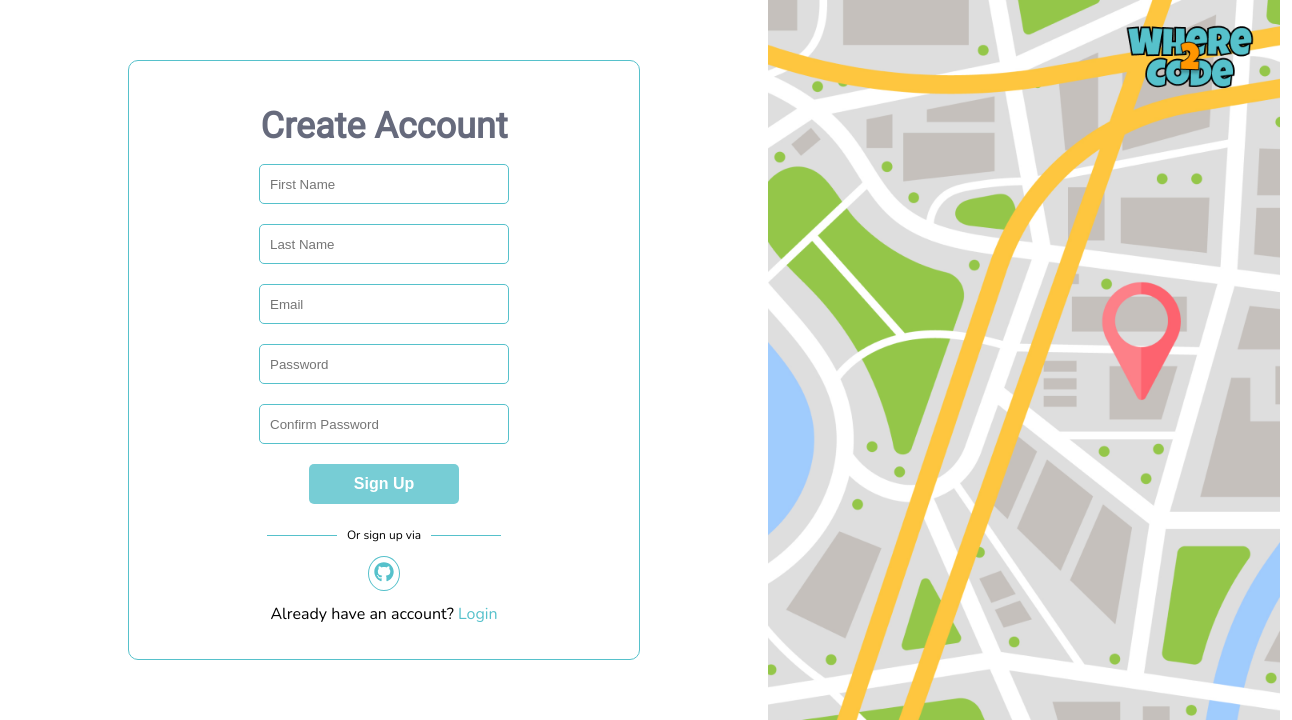
Scenario: Registartion tests › display an error message if validation don't pass › test confirm password validation
In the password field with placeholder "Password": (384, 364) [259,344,509,384], type "giacomo1"
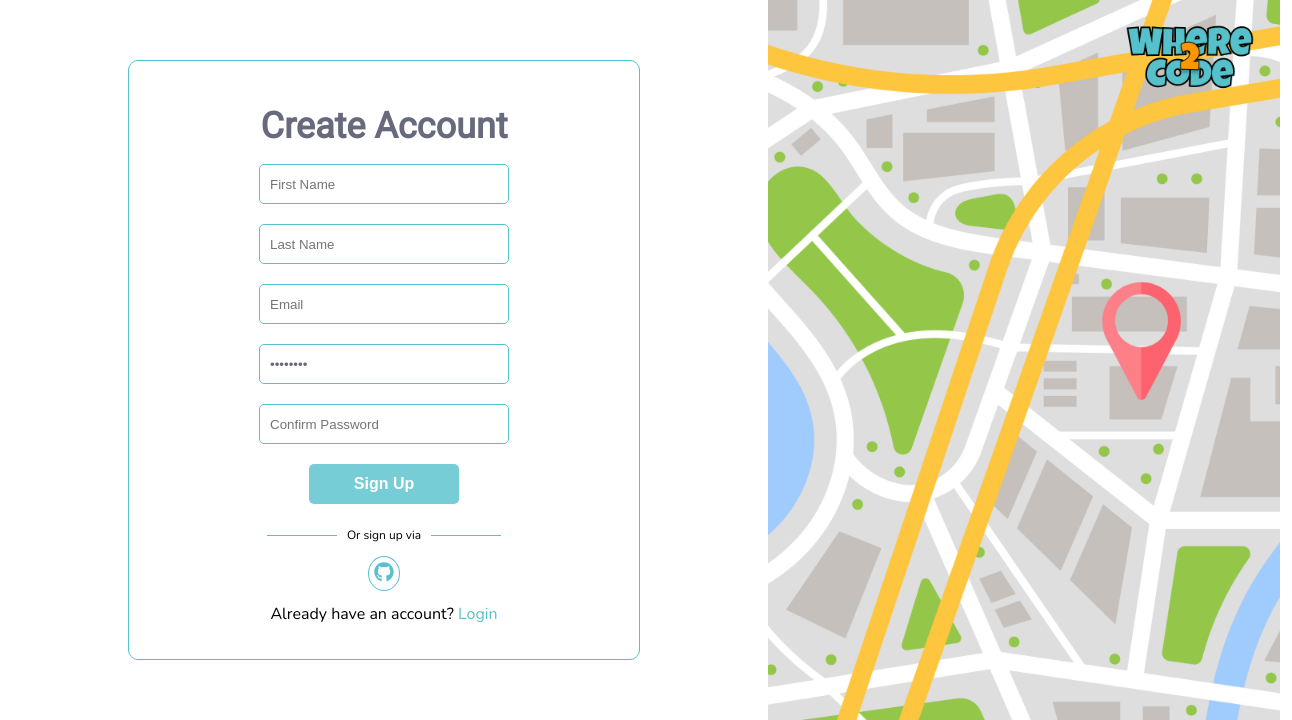
In the password field with placeholder "Confirm Password": (384, 424) [259,404,509,444], type "giacomo2"
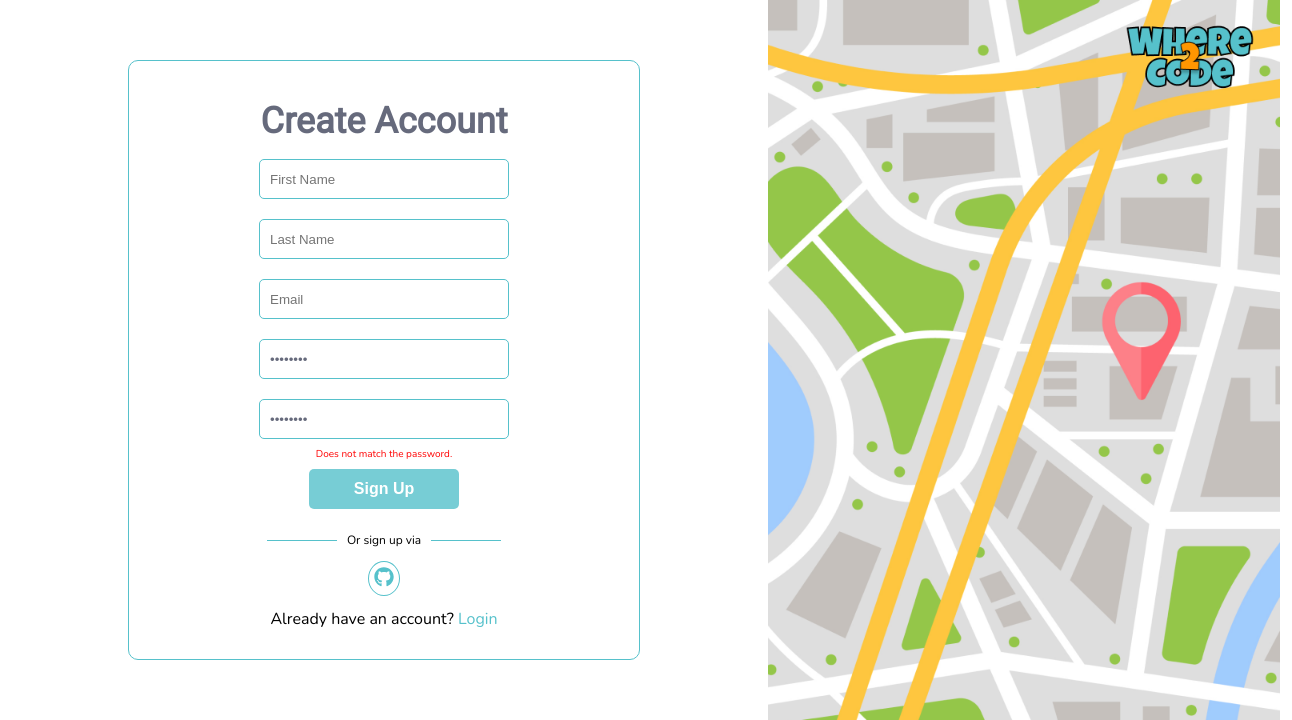
Expected: the text "Does not match the password." is shown, [316,449,452,459]
